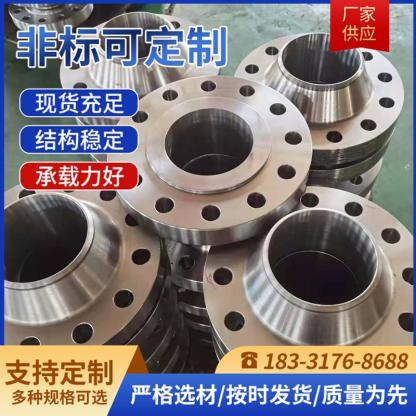FOD: (200, 178, 416, 388), (103, 70, 318, 252), (227, 28, 407, 170)
